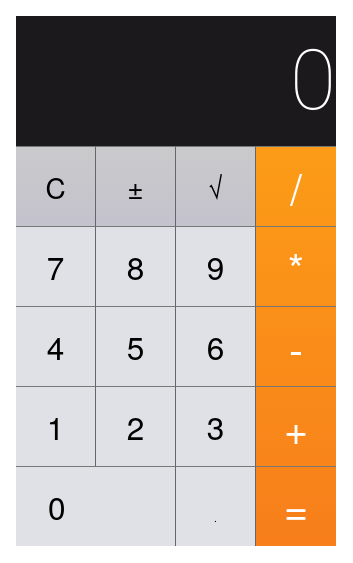
Calculator Tests › should display 11 when "5.5 * 2 = " is clicked
The width and height of the screenshot is (353, 563).
Click the button with class "key-5": click(136, 346) [96,306,176,386]
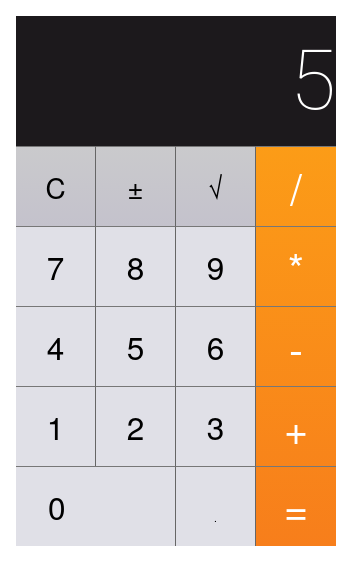
Click the button with class "key-dot": click(216, 506) [176,466,256,546]
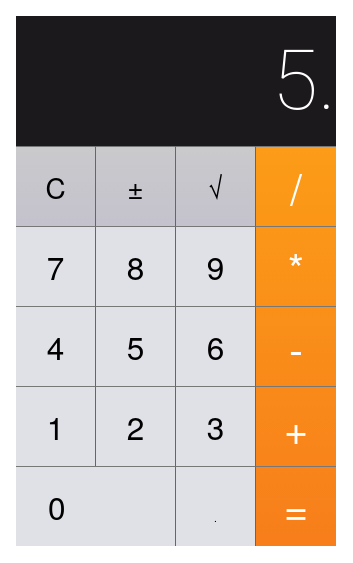
Click the button with class "key-5": click(136, 346) [96,306,176,386]
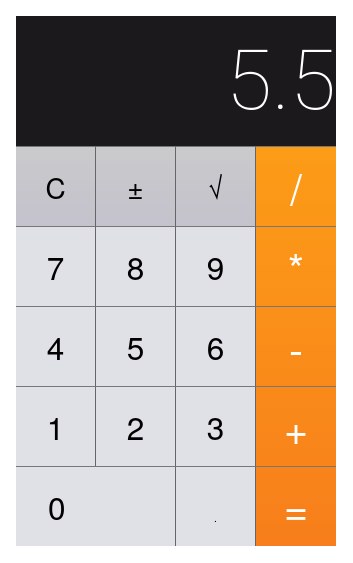
Click the button with class "key-multiply": click(296, 266) [256,226,336,306]
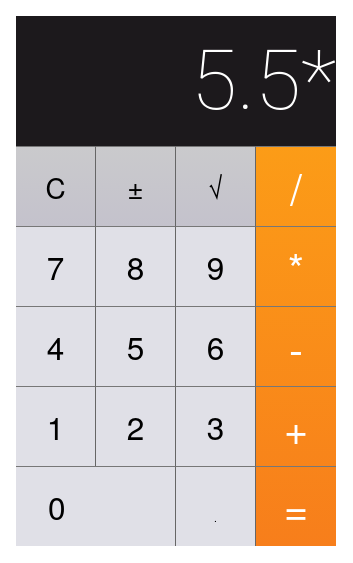
Click the button with class "key-2": click(136, 426) [96,386,176,466]
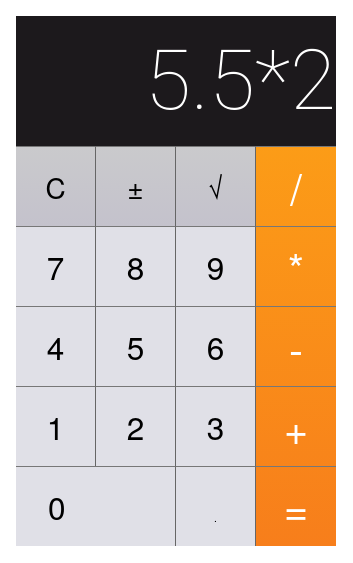
Click the button with class "key-equals": click(296, 506) [256,466,336,546]
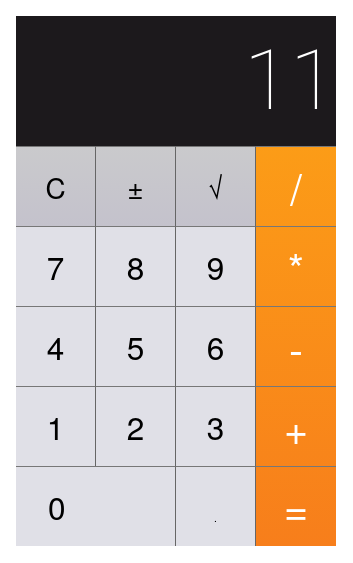
Expected: the text with class "calculator-display" reads "11", [16,16,336,146]
